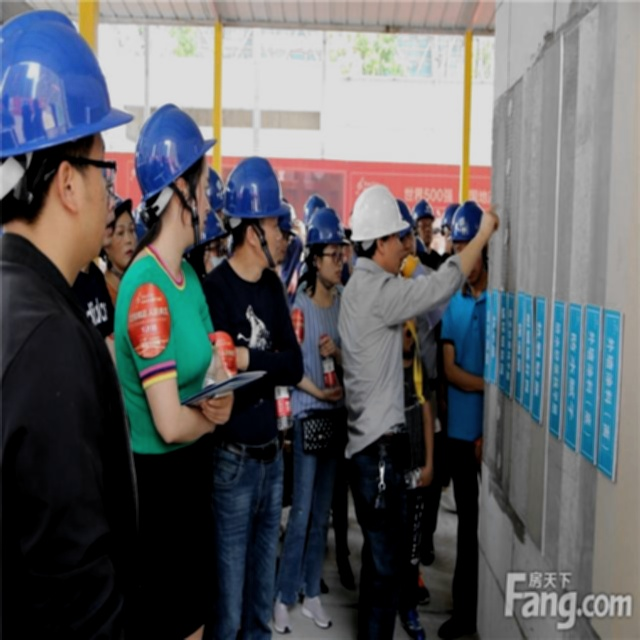Con_Casco: (135, 106, 208, 242), (225, 154, 284, 272)
